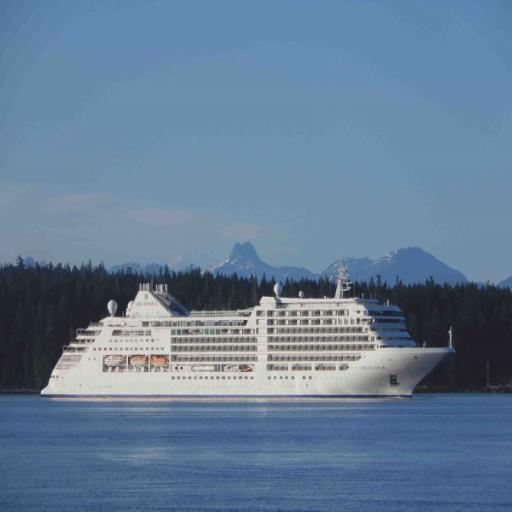cruises: (36, 253, 462, 410)
